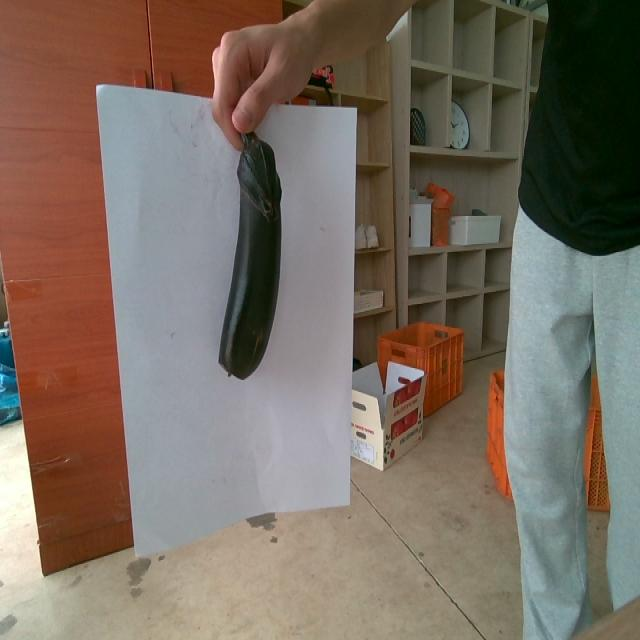Egg plant: (219, 132, 281, 377)
